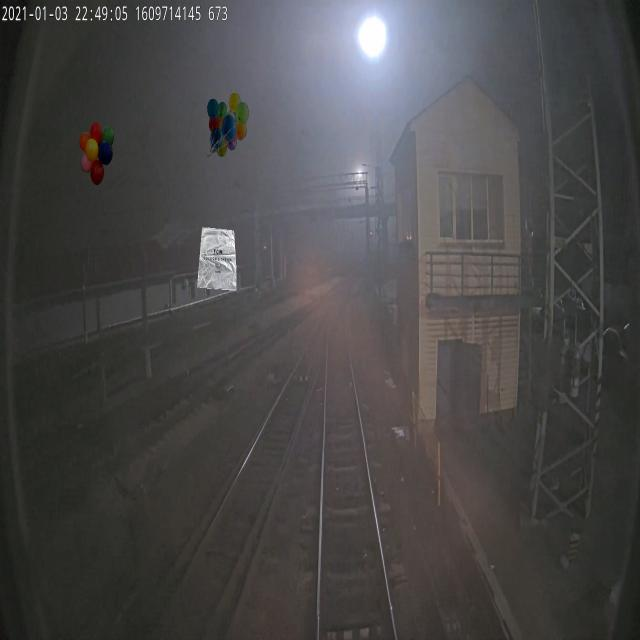balloon: (207, 92, 249, 156), (78, 121, 115, 186)
plastic bag: (197, 227, 237, 290)
